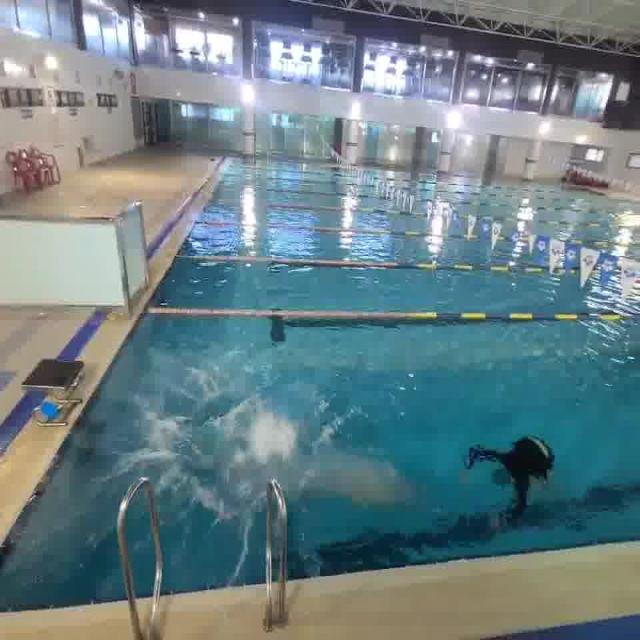Drowning: (462, 423, 565, 535)
